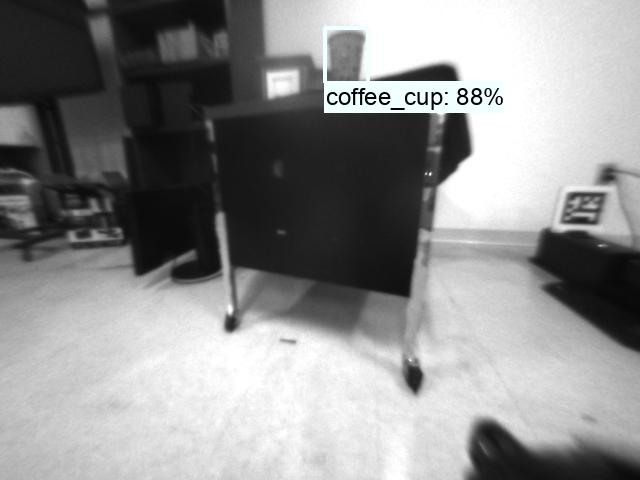coffee_cup: (324, 29, 365, 83)
